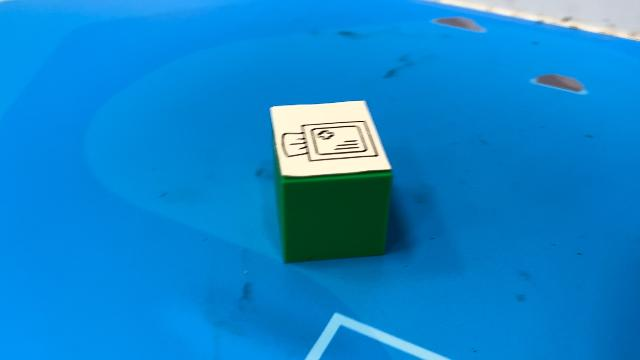napkin: (268, 99, 404, 265)
